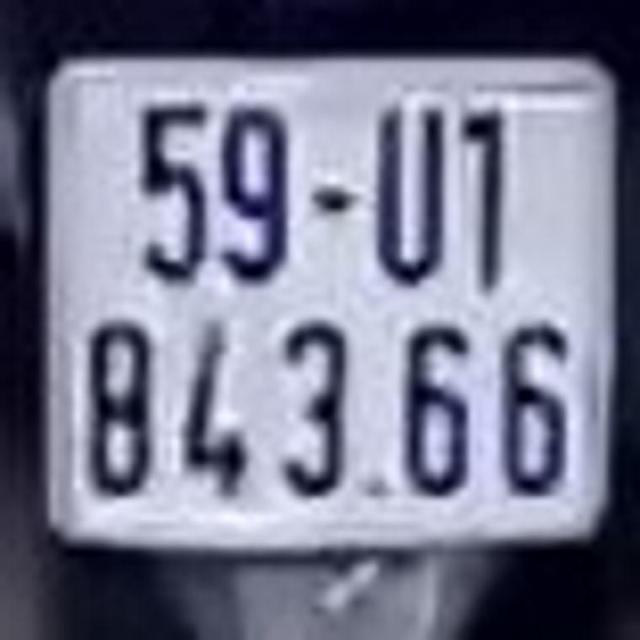1: (454, 86, 532, 296)
3: (274, 292, 354, 512)
4: (180, 300, 260, 510)
5: (130, 80, 210, 284)
6: (492, 294, 582, 506), (393, 296, 481, 498)
8: (73, 305, 158, 498)
9: (213, 83, 295, 279)
U: (366, 86, 453, 284)
